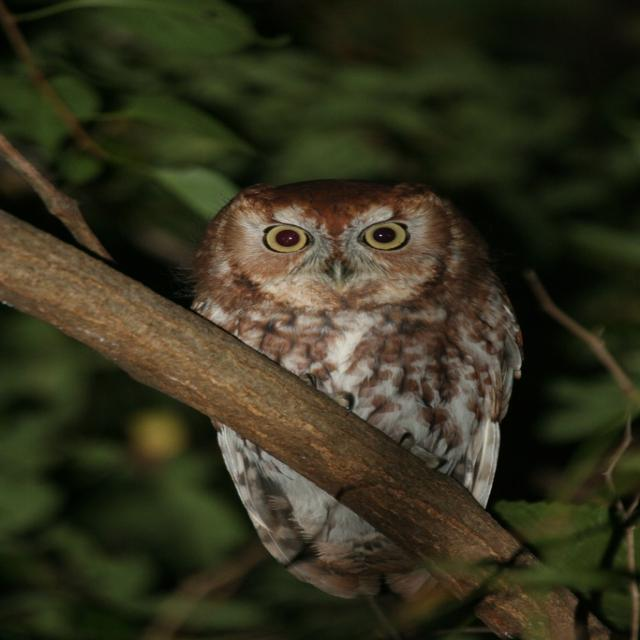bird: (189, 180, 516, 595)
